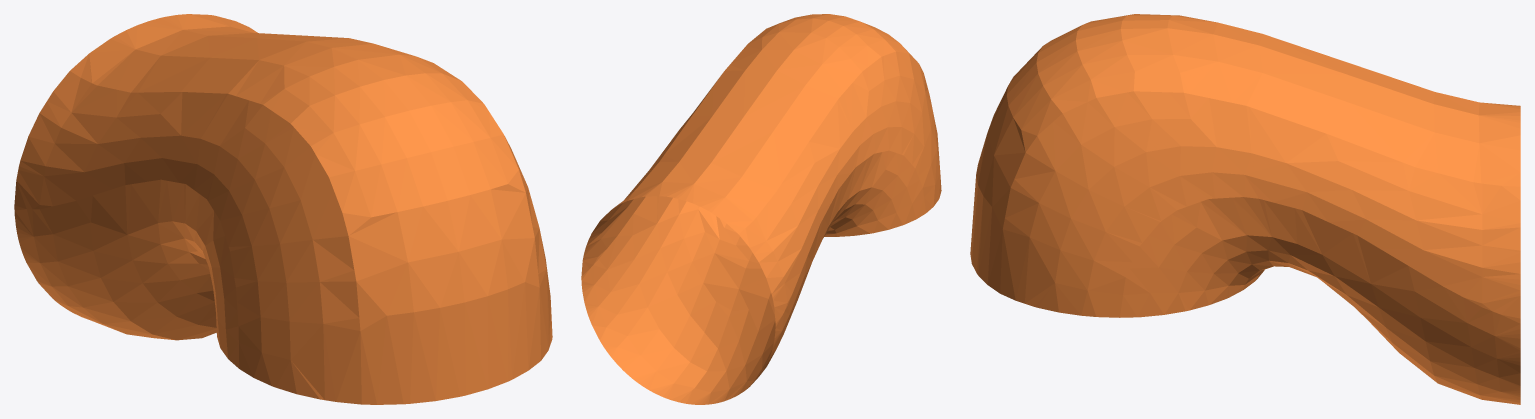
Rendered from iiwa_link_4_vis_1.obj.
3 views of the same model, side by side, from view 1: azimuth 30°, elevation 25°; view 2: azimuth 150°, elevation 25°; view 3: azimuth 270°, elevation 25° (orthographic). The views are drawn at different scales.
Visible parts, largest first — view 1: node; view 2: node; view 3: node.
Boxes of the visible parts, box(x1,y1,x2,y2) form: node: box(14, 14, 552, 404); node: box(581, 14, 941, 404); node: box(970, 14, 1520, 404).
Bounding box in the file's own units: 0.136 × 0.1823 × 0.2505.
